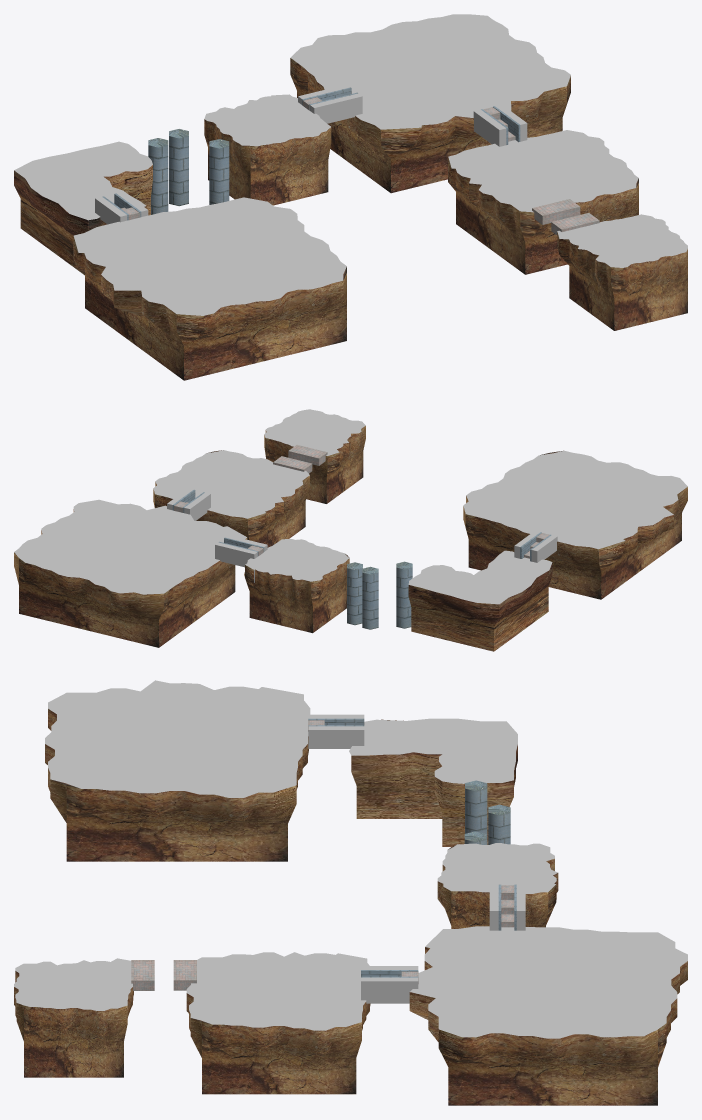
File: stage_02.fbx
3 renders of one model, top to bottom at view 1: azimuth 30°, elevation 25°; view 2: azimuth 150°, elevation 25°; view 3: azimuth 270°, elevation 25°, orthographic. The views are drawn at different scales.
Visible parts, largest first — view 1: Box040, Box038, Box037, Box036, Box039, L-Ext001, Cylinder026, Cylinder027, Cylinder025, Box018, Box015, Box003 (+2 smaller); view 2: Box038, Box040, L-Ext001, Box037, Box039, Box036, Cylinder026, Cylinder027, Cylinder025, Box017, Box011, Box003 (+2 smaller); view 3: Box040, Box038, Box037, L-Ext001, Box036, Box039, Box004, Box027, Cylinder027, Cylinder026, Box011, Box015.
Part boxes in pixels (x1,y1,x2,y2): Box040: (73,197,346,380); Box038: (290,14,570,193); Box037: (448,130,638,274); Box036: (557,214,687,330); Box039: (204,94,331,205); L-Ext001: (14,141,152,275); Cylinder026: (169,129,188,206); Cylinder027: (148,138,168,214); Cylinder025: (209,139,229,204); Box018: (310,93,362,123); Box015: (532,199,580,224); Box003: (473,109,506,146); Box038: (14,499,247,647); Box040: (463,450,687,599); L-Ext001: (408,550,552,651); Box037: (153,450,309,547); Box039: (244,539,349,633); Box036: (264,409,365,503); Cylinder026: (362,566,378,629); Cylinder027: (396,561,412,628); Cylinder025: (347,562,362,625); Box017: (215,542,257,567); Box011: (288,445,327,465); Box003: (184,492,210,520); Box040: (45,680,310,861); Box038: (409,926,687,1105); Box037: (186,952,370,1094); L-Ext001: (349,718,517,846); Box036: (14,958,133,1077); Box039: (437,843,558,928); Box004: (361,977,418,1003); Box027: (308,726,364,748); Cylinder027: (465,780,487,844); Cylinder026: (488,804,510,844); Box011: (131,960,154,990); Box015: (173,960,196,990).
Bounding box in the file's own units: 15459 × 13560 × 2735.
